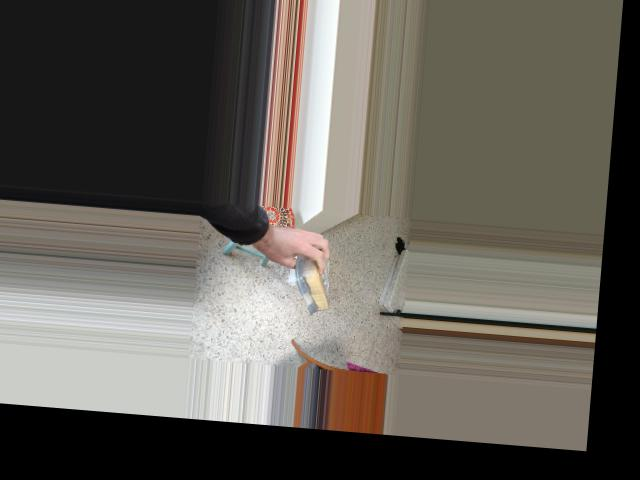cheese: (288, 229, 334, 320)
